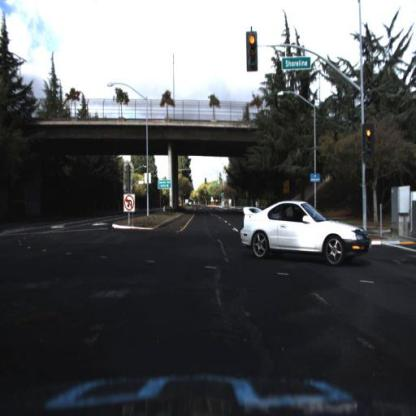car: (235, 191, 374, 269)
trafficLight: (364, 123, 375, 159)
trafficLight-Red: (247, 32, 261, 72)
